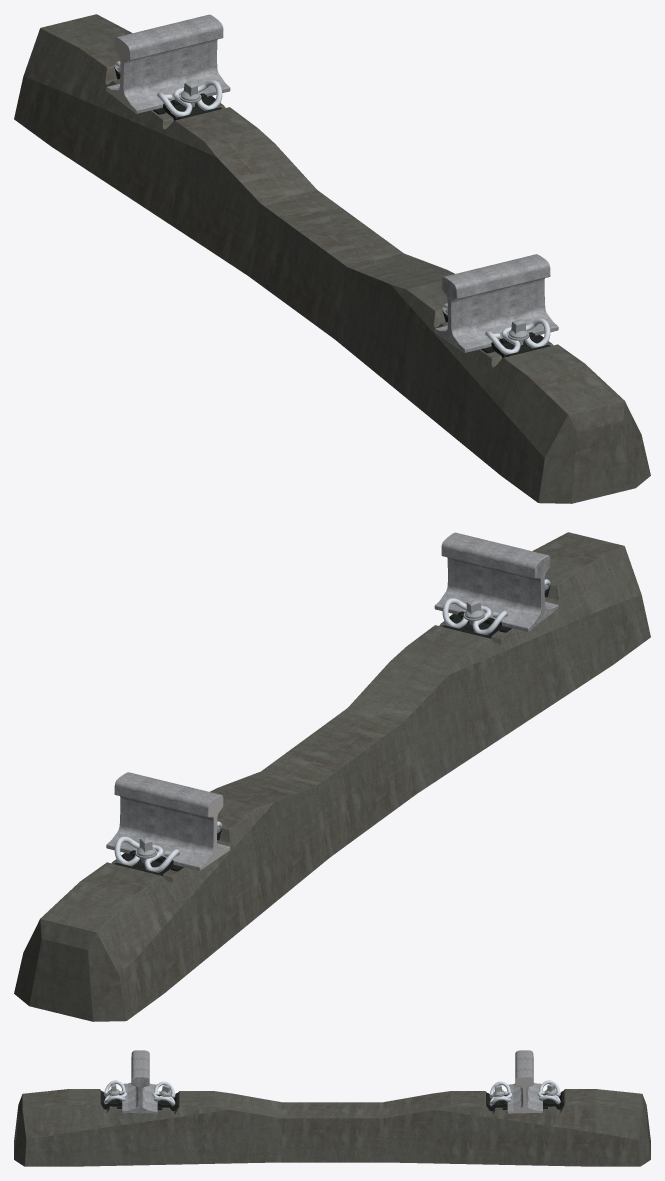
The picture shows the model from 3 angles, top to bottom: view 1: azimuth 30°, elevation 25°; view 2: azimuth 150°, elevation 25°; view 3: azimuth 270°, elevation 25°; orthographic projection. The views are drawn at different scales.
Parts seen in each view (by area): view 1: Bryła11, Beton3, Beton2, Bryła1.008, Bryła1.009, Beton1, Bryła5.002, Bryła5.003; view 2: Beton3, Bryła11, Beton1, Bryła1.009, Bryła1.008, Beton2, Bryła5, Bryła5.001; view 3: Beton1, Beton2, Beton3, Bryła11, Bryła1.009, Bryła1.008, Bryła5.003, Bryła5, Bryła5.002, Bryła5.001, Solid1.002, Solid1.006.
Boxes of the visible parts, <box> form: Bryła11: <box>291,228,603,503</box>; Beton3: <box>14,21,331,306</box>; Beton2: <box>333,221,650,495</box>; Bryła1.008: <box>106,14,230,113</box>; Bryła1.009: <box>434,254,558,352</box>; Beton1: <box>69,14,359,228</box>; Bryła5.002: <box>157,80,222,116</box>; Bryła5.003: <box>485,318,550,354</box>; Beton3: <box>61,746,373,1021</box>; Bryła11: <box>333,539,650,824</box>; Beton1: <box>14,739,331,1013</box>; Bryła1.009: <box>434,532,558,631</box>; Bryła1.008: <box>106,772,230,870</box>; Beton2: <box>305,532,595,746</box>; Bryła5: <box>442,598,507,634</box>; Bryła5.001: <box>114,836,179,872</box>; Beton1: <box>332,1097,650,1166</box>; Beton2: <box>14,1097,332,1166</box>; Beton3: <box>332,1089,650,1148</box>; Bryła11: <box>14,1089,332,1148</box>; Bryła1.009: <box>122,1050,157,1113</box>; Bryła1.008: <box>507,1050,542,1113</box>; Bryła5.003: <box>104,1080,127,1103</box>; Bryła5: <box>152,1081,175,1105</box>; Bryła5.002: <box>489,1081,512,1105</box>; Bryła5.001: <box>537,1080,560,1103</box>; Solid1.002: <box>543,1091,564,1109</box>; Solid1.006: <box>100,1091,121,1109</box>.
Bounding box in the file's own units: 0.3 × 0.3775 × 2.5.
9 materials, 6 textured.
